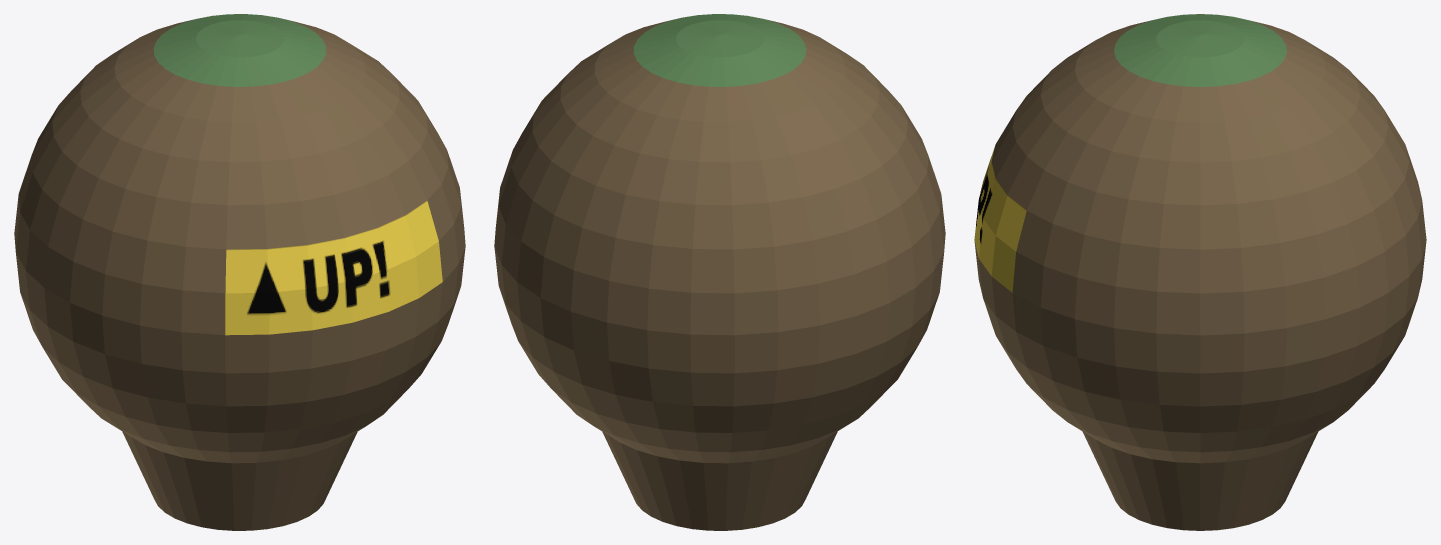
Rendered from ball_3inch_textured.fbx.
The picture shows the model from 3 angles, left to right: view 1: azimuth 30°, elevation 25°; view 2: azimuth 150°, elevation 25°; view 3: azimuth 270°, elevation 25°; orthographic projection.
Parts seen in each view (by area): view 1: Sphere; view 2: Sphere; view 3: Sphere.
Boxes of the visible parts, x1,y1,x2,y2 form: Sphere: [14, 14, 465, 530]; Sphere: [494, 14, 945, 530]; Sphere: [974, 14, 1426, 530].
Bounding box in the file's own units: 14 × 16.23 × 14.
